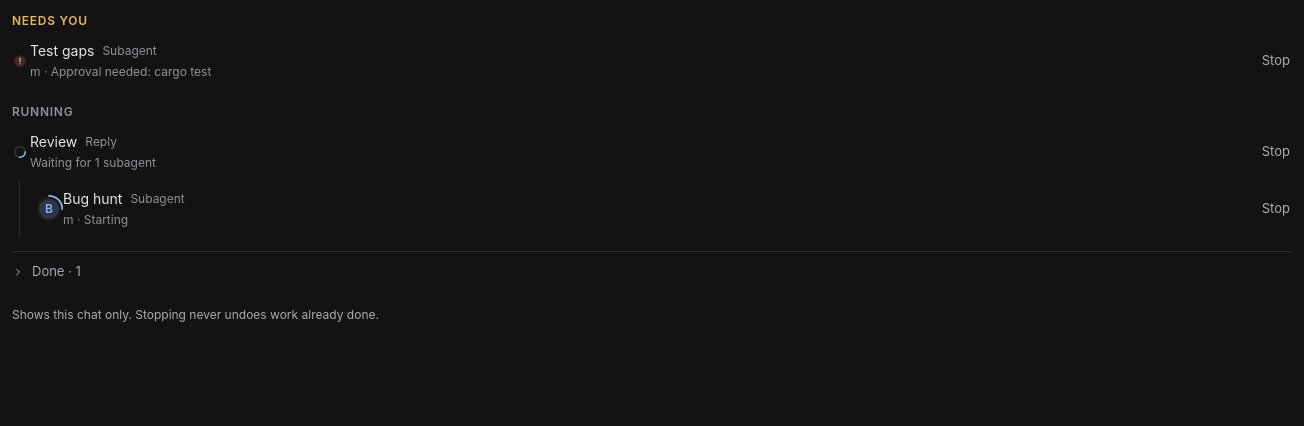
Tasks sections › nests a reply's working subagents under it and lists one waiting on you under Needs you
Check: the element "Needs you" shows "Test gaps", box [30,40,1258,81]
Check: the element "Running" shows "Waiting for 1 subagent", box [30,155,156,170]
Click the button "Done · 1": (54, 271) [12,252,1292,292]
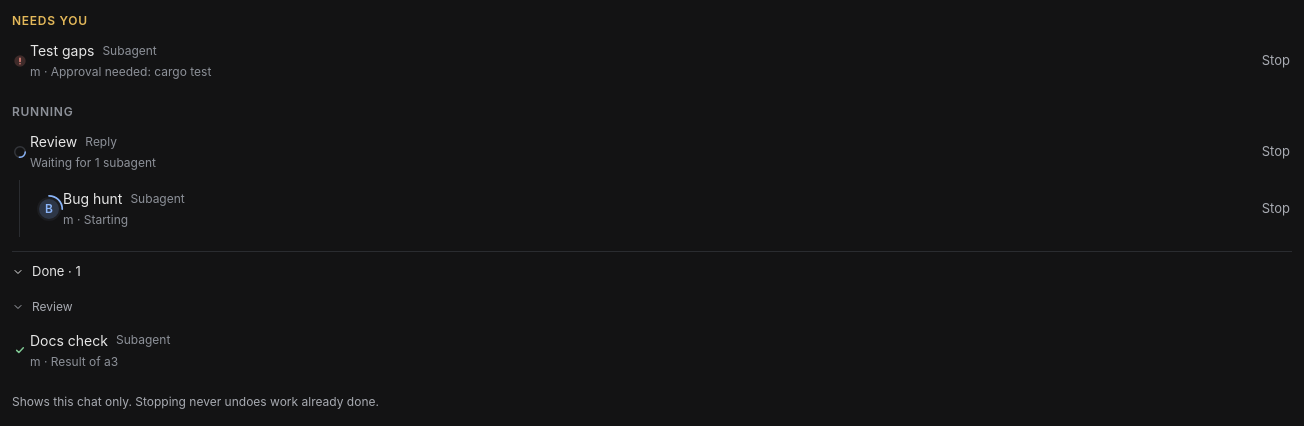
Check: the element "Done" shows "Docs check", box [30,330,1290,370]
